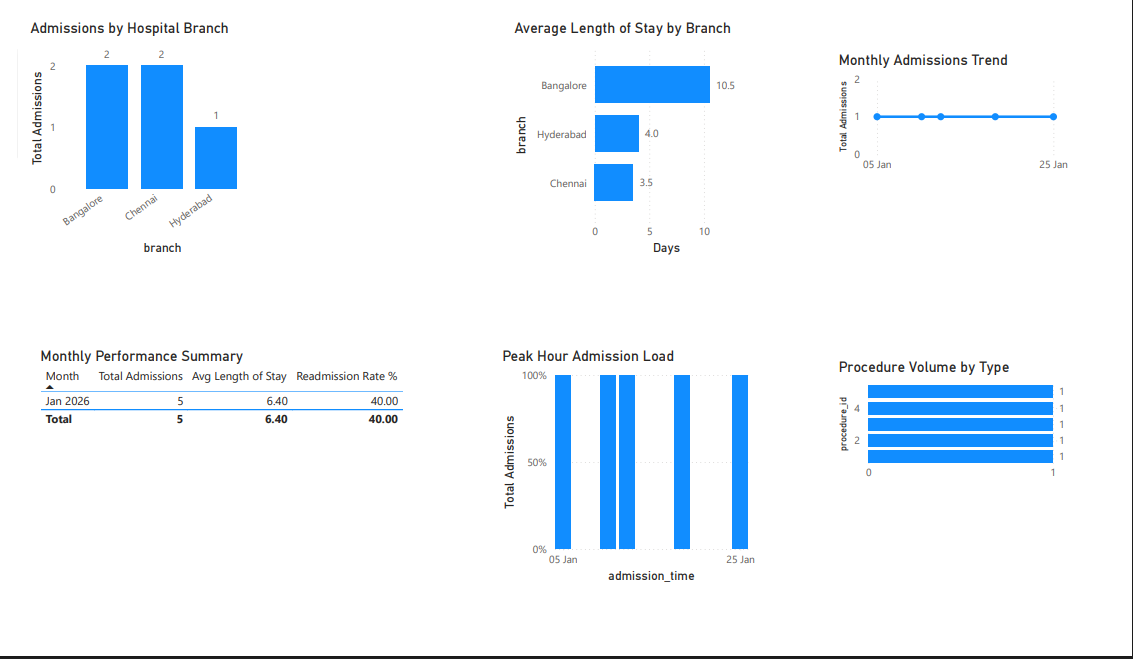

This screenshot's page, from the dashboard's own definition file:
{"tool":"powerbi","page":{"name":"Branch Comparison & Monthly Summary","canvas":[1280,720],"ordinal":2},"visuals":[{"type":"clusteredColumnChart","title":"Admissions by Hospital Branch","fields":{"Category":["hospital_analytics patients.branch"],"Y":["hospital_analytics admissions.Total Admissions"]},"box":[10,0,280,280],"z":0},{"type":"clusteredBarChart","title":"Average Length of Stay by Branch","fields":{"Category":["hospital_analytics patients.branch"],"Y":["hospital_analytics admissions.Avg Length of Stay"]},"box":[576.1,0,278.8,280.1],"z":1},{"type":"lineChart","title":"Monthly Admissions Trend","fields":{"Category":["hospital_analytics admissions.admission_time"],"Y":["hospital_analytics admissions.Total Admissions"]},"box":[955,36.7,278.3,150],"z":2},{"type":"tableEx","title":"Monthly Performance Summary","fields":{"Values":["hospital_analytics admissions.Month","hospital_analytics admissions.Total Admissions","hospital_analytics admissions.Avg Length of Stay","hospital_analytics outcomes.Readmission Rate %"]},"box":[21.7,381.7,438.3,280],"z":3},{"type":"hundredPercentStackedColumnChart","title":"Peak Hour Admission Load","fields":{"Category":["hospital_analytics admissions.admission_time"],"Y":["hospital_analytics admissions.Total Admissions"]},"box":[561.7,381.7,306.7,280],"z":4},{"type":"clusteredBarChart","title":"Procedure Volume by Type","fields":{"Y":["CountNonNull(hospital_analytics procedures.procedure_type)"],"Category":["hospital_analytics procedures.procedure_id"]},"box":[955,395,278.3,151.7],"z":5}]}

Visuals, with their boxes on the page's 1280x720 design canvas (x1, y1, x2, y2). These are canvas units, not pixel positions in the 1133x659 screenshot, which may show the page scaled, cropped or inside an application window:
"Admissions by Hospital Branch" clusteredColumnChart: rect(10, 0, 290, 280)
"Average Length of Stay by Branch" clusteredBarChart: rect(576, 0, 855, 280)
"Monthly Admissions Trend" lineChart: rect(955, 37, 1233, 187)
"Monthly Performance Summary" tableEx: rect(22, 382, 460, 662)
"Peak Hour Admission Load" hundredPercentStackedColumnChart: rect(562, 382, 868, 662)
"Procedure Volume by Type" clusteredBarChart: rect(955, 395, 1233, 547)
